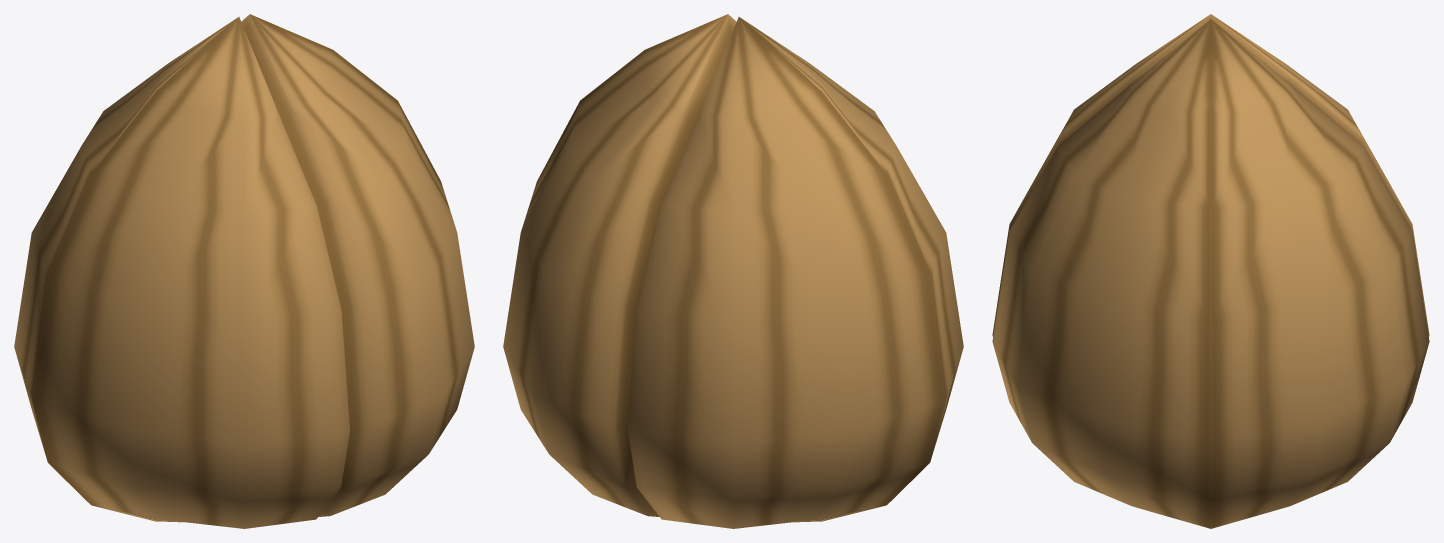
The model's file is Seedling.fbx.
The picture shows the model from 3 angles, left to right: view 1: azimuth 30°, elevation 25°; view 2: azimuth 150°, elevation 25°; view 3: azimuth 270°, elevation 25°; orthographic projection. The views are drawn at different scales.
Parts seen in each view (by area): view 1: Sphere; view 2: Sphere; view 3: Sphere.
Part boxes in pixels (left/top/right/bottom): Sphere: left=14, top=14, right=474, bottom=528; Sphere: left=503, top=14, right=963, bottom=528; Sphere: left=992, top=14, right=1429, bottom=528.
Bounding box in the file's own units: 54.72 × 61.42 × 50.37.
